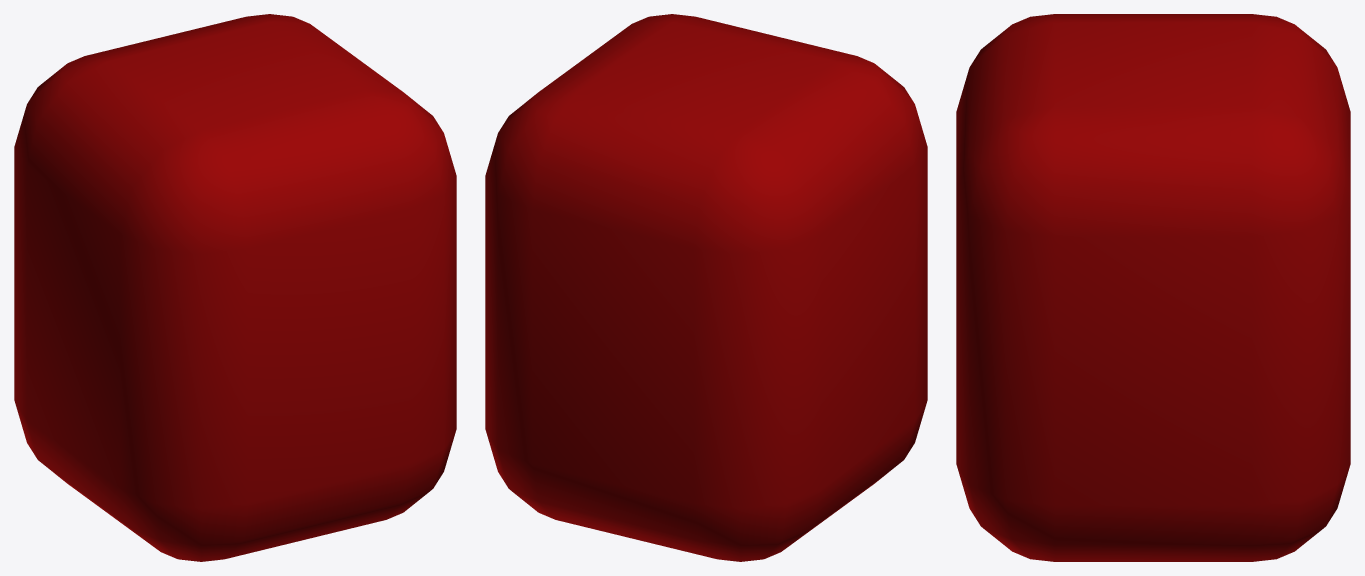
The model's file is onSwitch.obj.
The picture shows the model from 3 angles, left to right: view 1: azimuth 30°, elevation 25°; view 2: azimuth 150°, elevation 25°; view 3: azimuth 270°, elevation 25°; orthographic projection. The views are drawn at different scales.
Parts seen in each view (by area): view 1: ChamferBox003; view 2: ChamferBox003; view 3: ChamferBox003.
Boxes of the visible parts, <box> form: ChamferBox003: <box>14,14,456,561</box>; ChamferBox003: <box>485,14,927,561</box>; ChamferBox003: <box>956,14,1350,561</box>.
Size of the model in its own units: 8 by 10 by 8.
